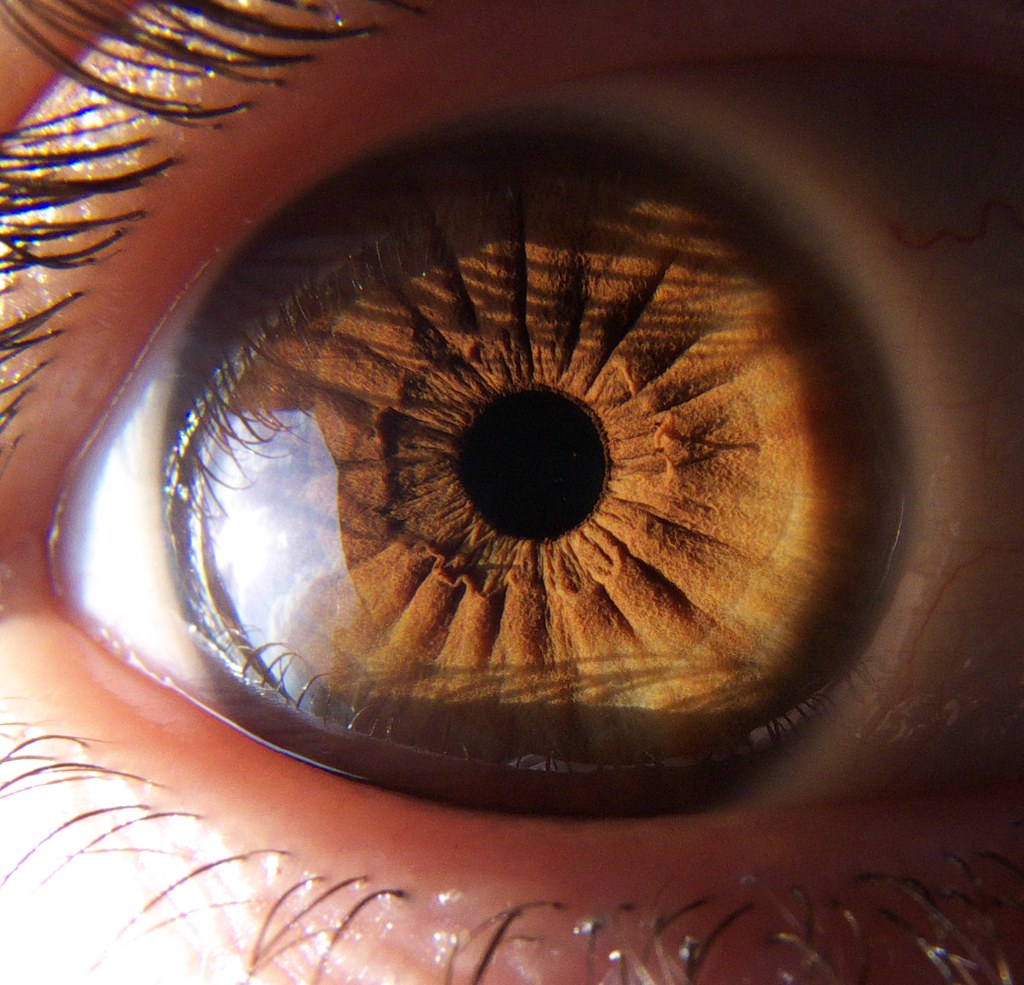iris: (161, 92, 915, 827)
pupil: (449, 383, 612, 546)
